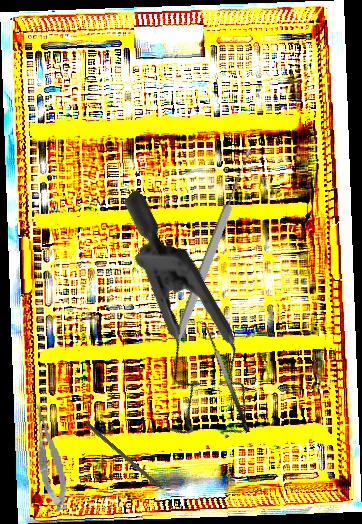Hook Surgical: (84, 421, 175, 502)
Micro Scissor: (30, 400, 71, 514)
Spatula Surgical: (194, 317, 251, 437)
Speculum: (30, 188, 319, 468)
Surgical Spoon: (171, 147, 257, 343)
